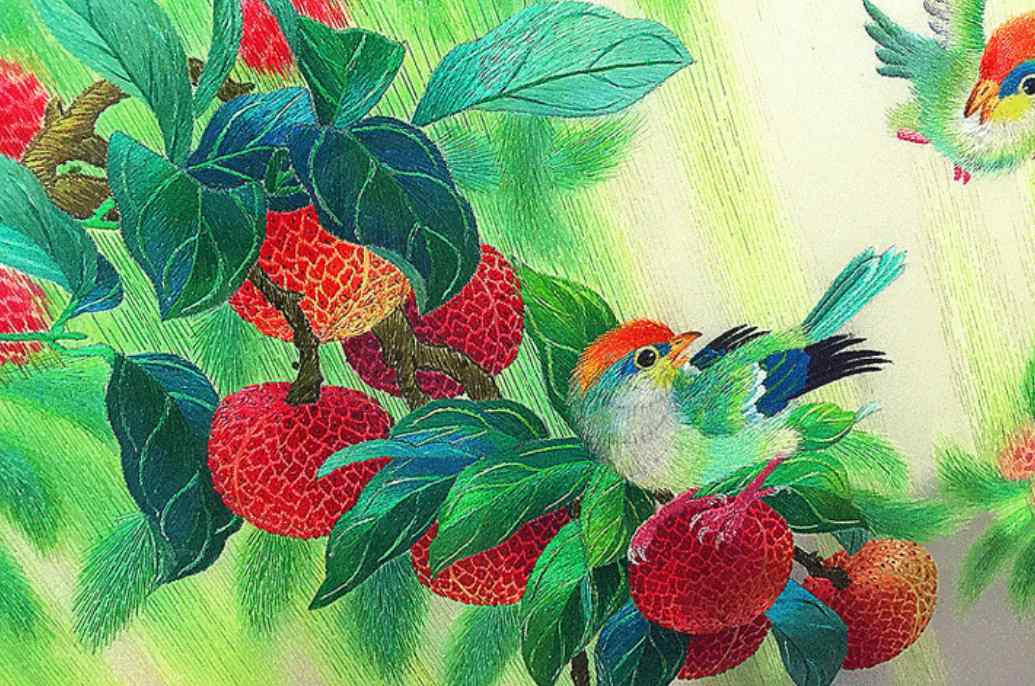bird: (559, 306, 896, 540), (856, 1, 1035, 185)
lychee: (209, 386, 396, 539), (338, 243, 523, 397), (225, 201, 411, 338), (615, 491, 797, 630), (798, 534, 938, 669), (404, 503, 581, 604), (226, 1, 356, 78), (668, 618, 778, 679), (1, 59, 55, 157), (1, 267, 54, 364)
